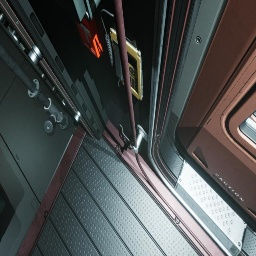EmergencyPhone ,: (100, 9, 144, 101)
FireAlarm ,: (75, 15, 103, 58)
